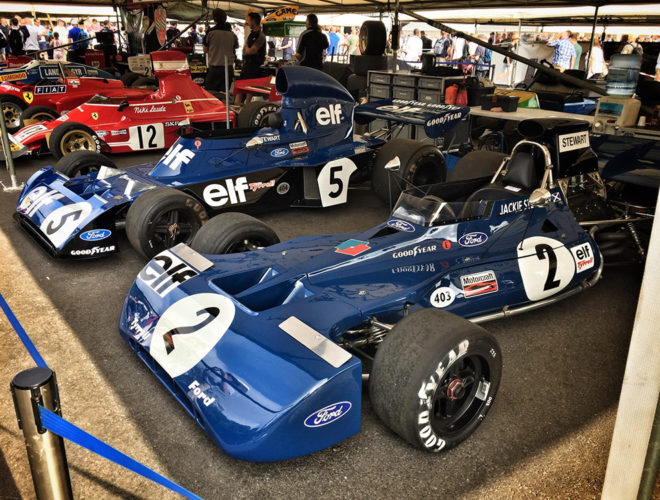f1_car: (113, 117, 660, 467), (16, 64, 402, 262), (6, 48, 288, 159)
